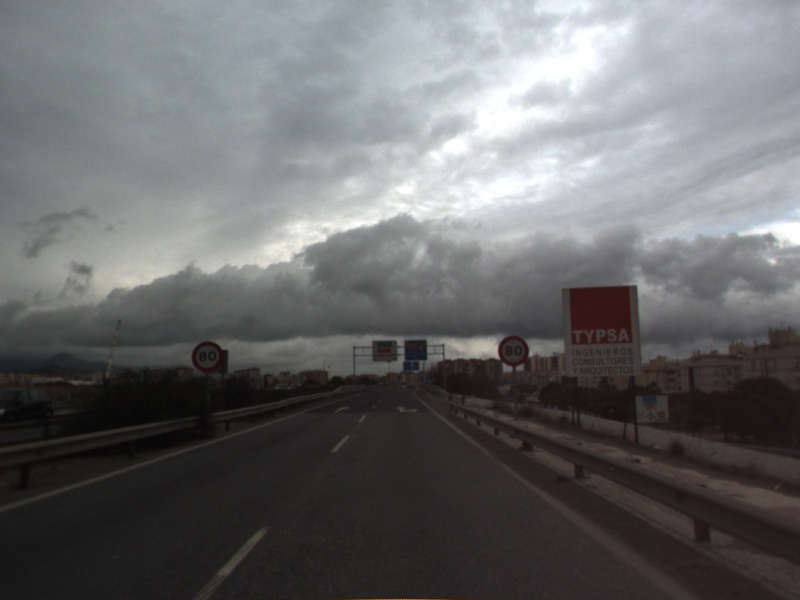STRAIGHT: (331, 404, 352, 415)
STRAIGHT_RIGHT: (393, 404, 422, 415)
